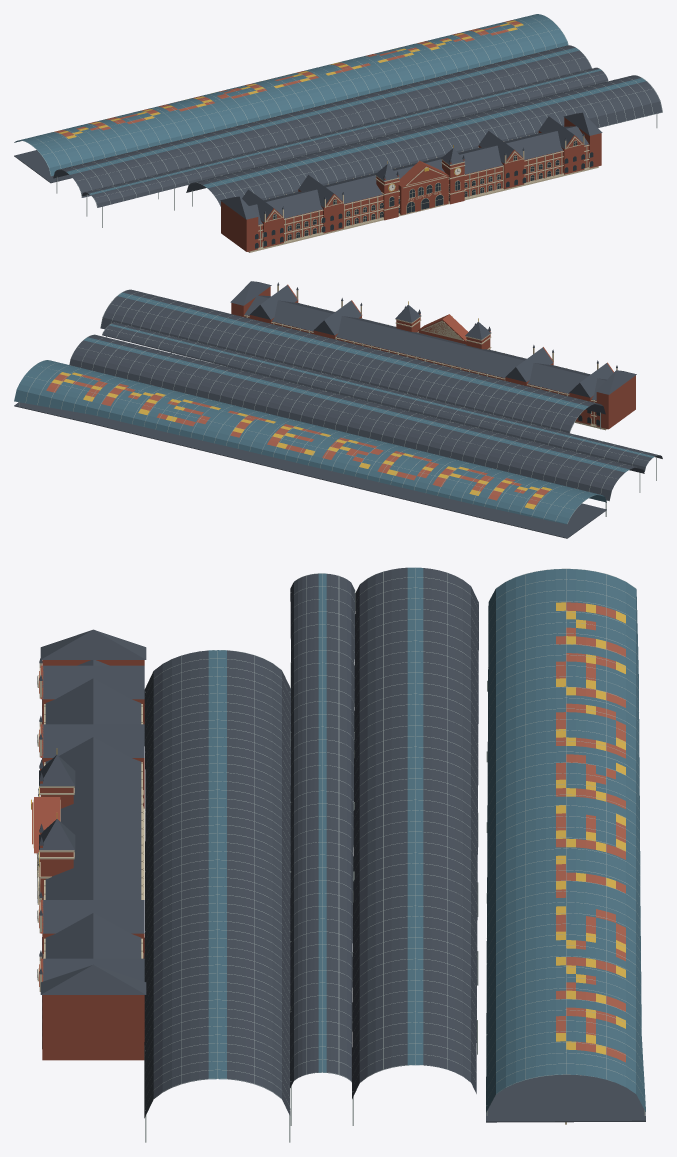
File: centraal-station.glb
3 renders of one model, top to bottom at view 1: azimuth 30°, elevation 25°; view 2: azimuth 150°, elevation 25°; view 3: azimuth 270°, elevation 25°, orthographic. The views are drawn at different scales.
Parts seen in each view (by area): view 1: centraal-station; view 2: centraal-station; view 3: centraal-station.
Part boxes in pixels (x1=…): centraal-station: x1=14, y1=14, x2=662, y2=252; centraal-station: x1=14, y1=281, x2=662, y2=538; centraal-station: x1=31, y1=567, x2=645, y2=1142.
Bounding box in the file's own units: 370 × 36.49 × 186.
